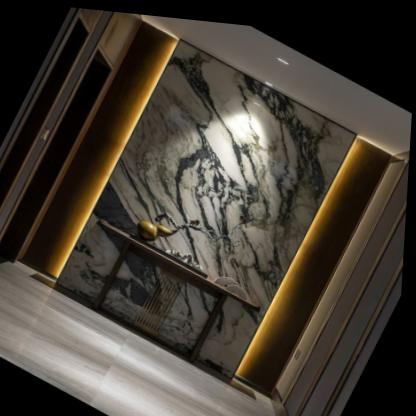Wall Panel: (13, 5, 405, 408)
